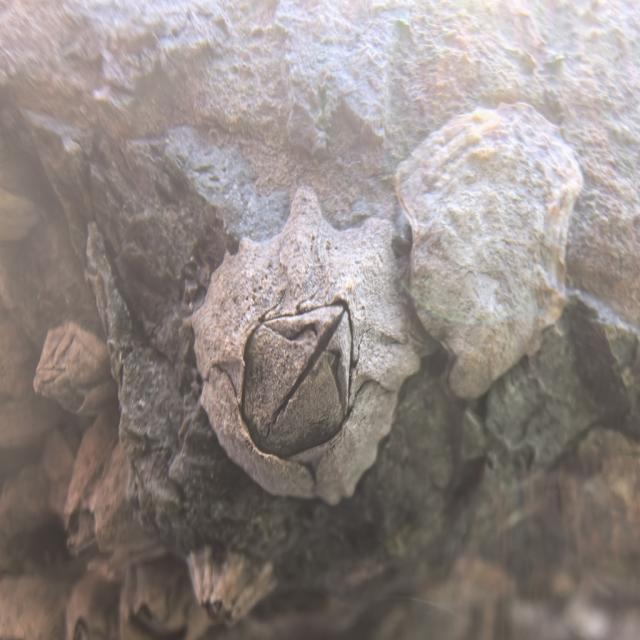barnacles: (190, 197, 398, 512)
